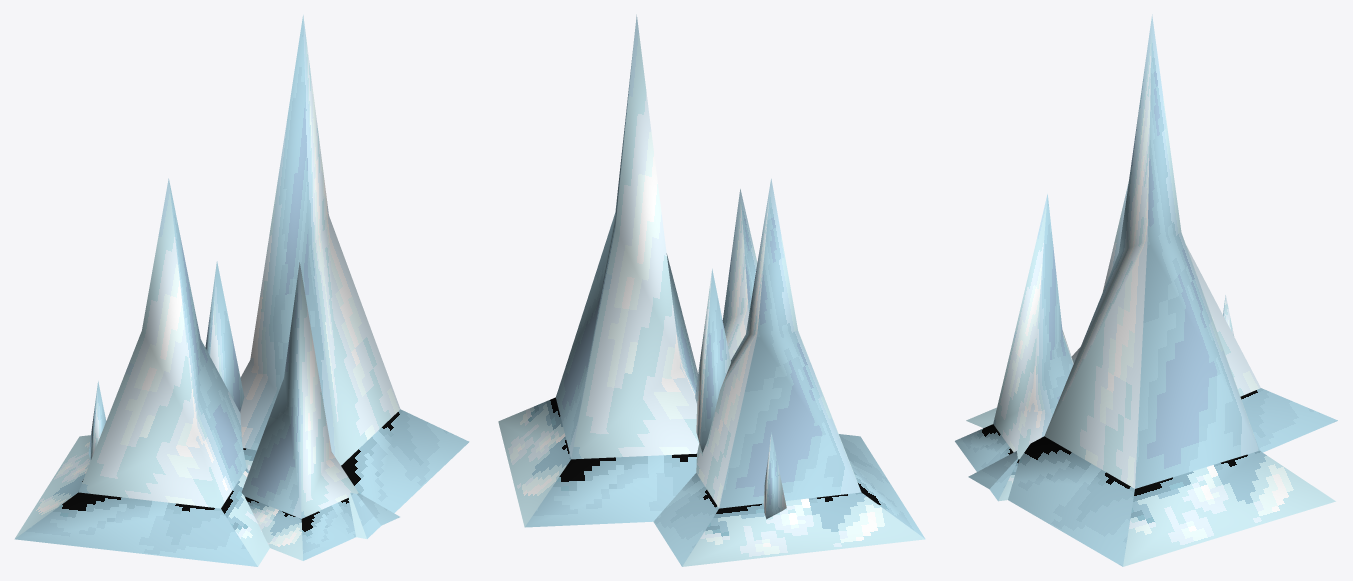
The picture shows the model from 3 angles, left to right: view 1: azimuth 30°, elevation 25°; view 2: azimuth 150°, elevation 25°; view 3: azimuth 270°, elevation 25°; orthographic projection. The views are drawn at different scales.
Parts seen in each view (by area): view 1: 3158IMFY03_10; view 2: 3158IMFY03_10; view 3: 3158IMFY03_10.
Part boxes in pixels (x1,y1,x2,y2): 3158IMFY03_10: [14, 15, 469, 566]; 3158IMFY03_10: [498, 14, 925, 566]; 3158IMFY03_10: [955, 14, 1337, 566].
Bounding box in the file's own units: 0.8735 × 0.8601 × 0.6299.
Materials: 2 (2 with a texture image).
